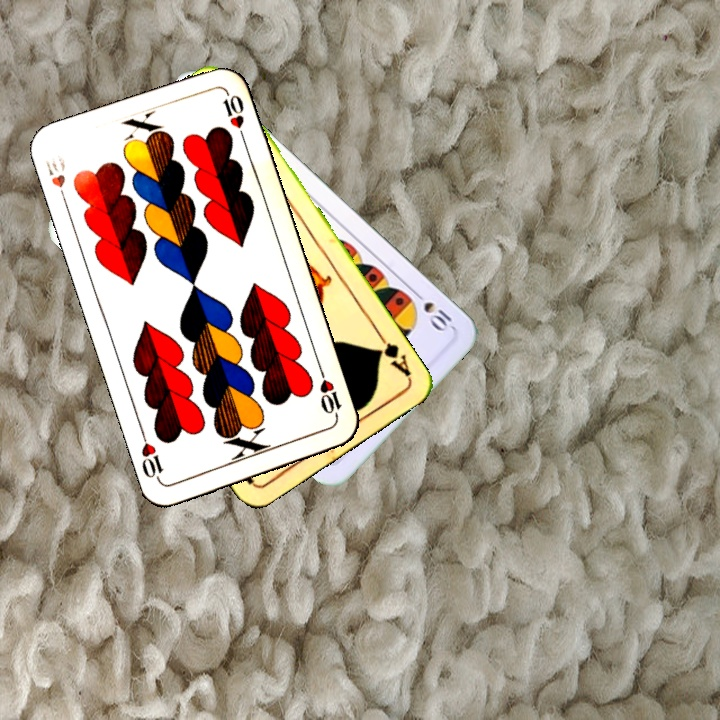GA: (372, 328, 414, 380)
H10: (315, 365, 345, 423), (41, 157, 70, 207)
S10: (409, 286, 456, 334)
